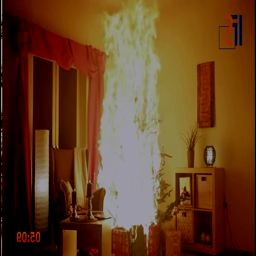fire: (86, 2, 180, 232)
